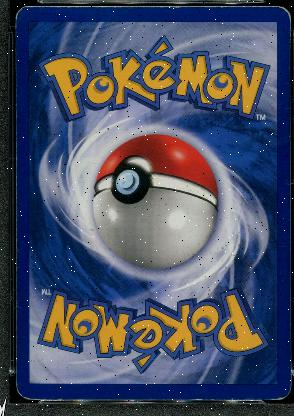Card: (13, 5, 291, 405)
Corner Wear: (15, 379, 39, 401), (267, 382, 291, 400), (273, 4, 290, 26), (14, 5, 29, 29)
Edge Wear: (24, 5, 270, 7), (185, 398, 266, 400), (37, 398, 63, 400)
Scratch: (243, 128, 252, 138), (238, 254, 259, 258), (212, 379, 225, 385), (281, 230, 288, 240), (254, 132, 262, 136), (275, 245, 287, 247), (284, 181, 289, 185), (283, 107, 288, 110)
